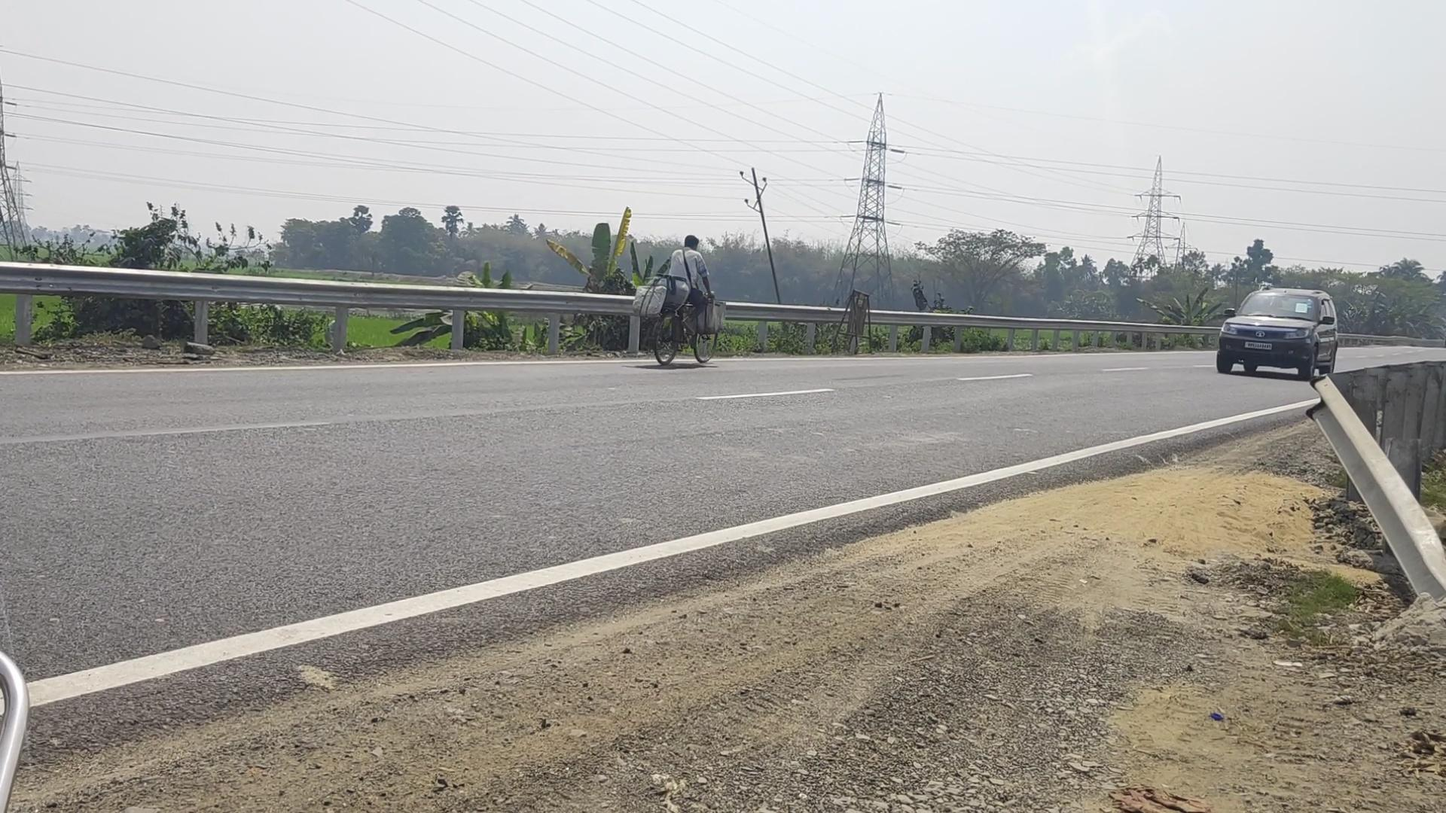bike: (645, 235, 718, 365)
car: (1217, 285, 1338, 381)
